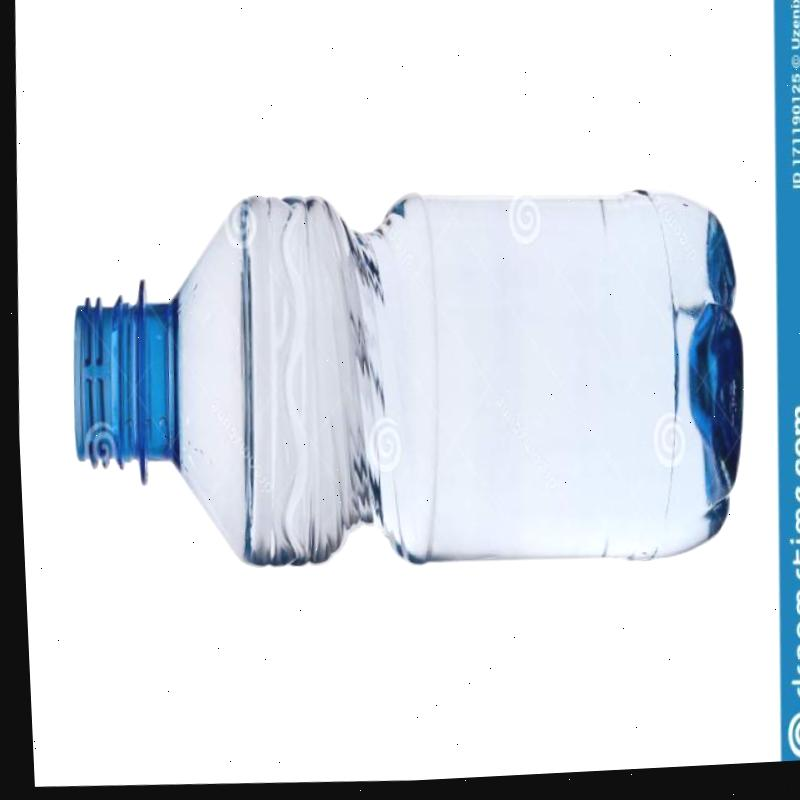botella: (55, 169, 754, 600)
